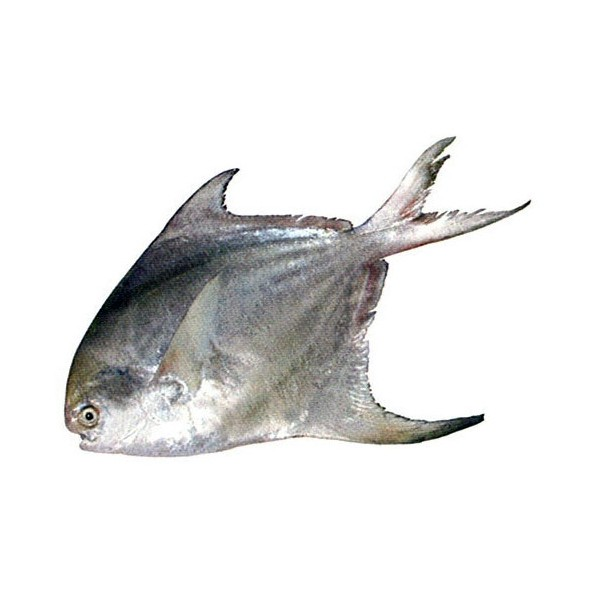Pomfret: (59, 130, 540, 460)
